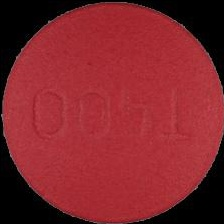60429-313: (0, 0, 224, 224)
